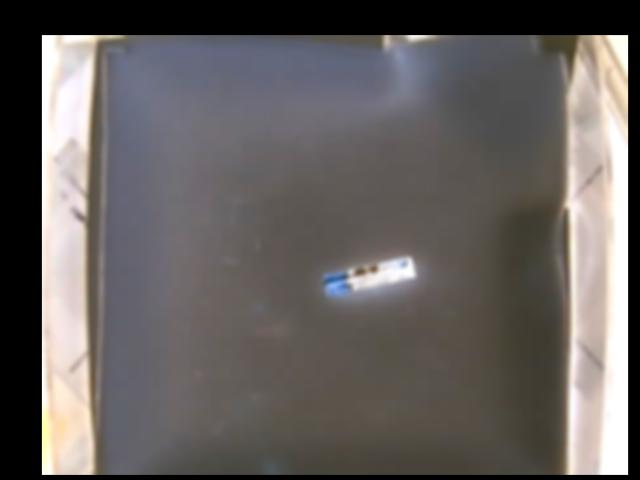Battery: (322, 255, 415, 295)
